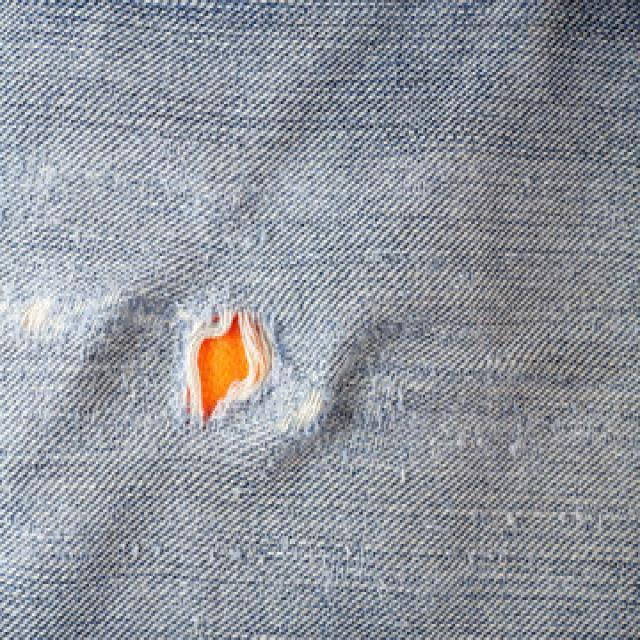Hole: (184, 313, 271, 428), (184, 313, 271, 426)
